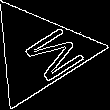M_SW: (3, 19, 77, 86)
